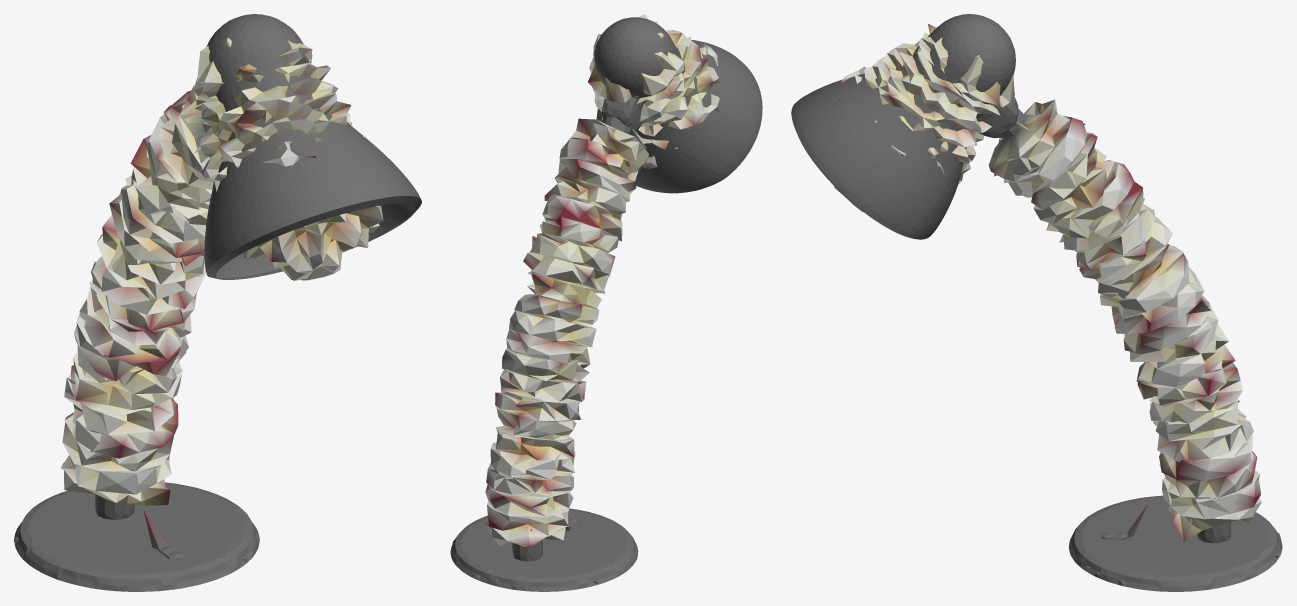
File: lamp3_final300.obj
3 views of the same model, side by side, from view 1: azimuth 30°, elevation 25°; view 2: azimuth 150°, elevation 25°; view 3: azimuth 270°, elevation 25° (orthographic). The views are drawn at different scales.
Bounding box in the file's own units: 0.568 × 1.55 × 1.31.
